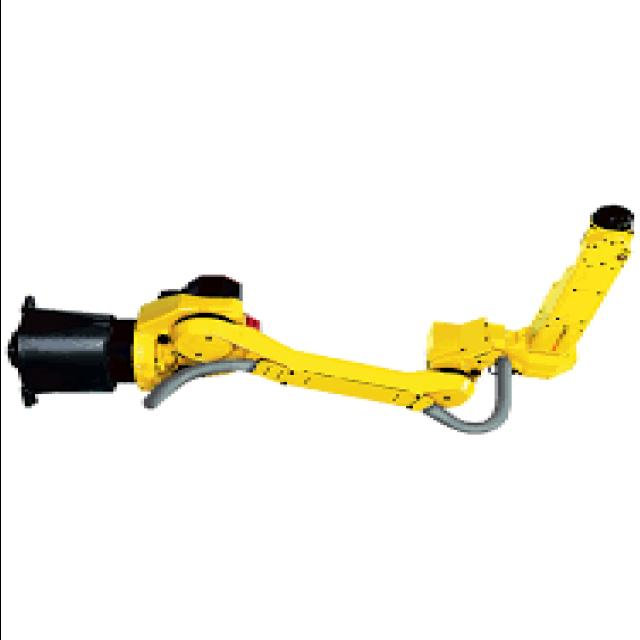Robotic-arm: (0, 202, 640, 440)
